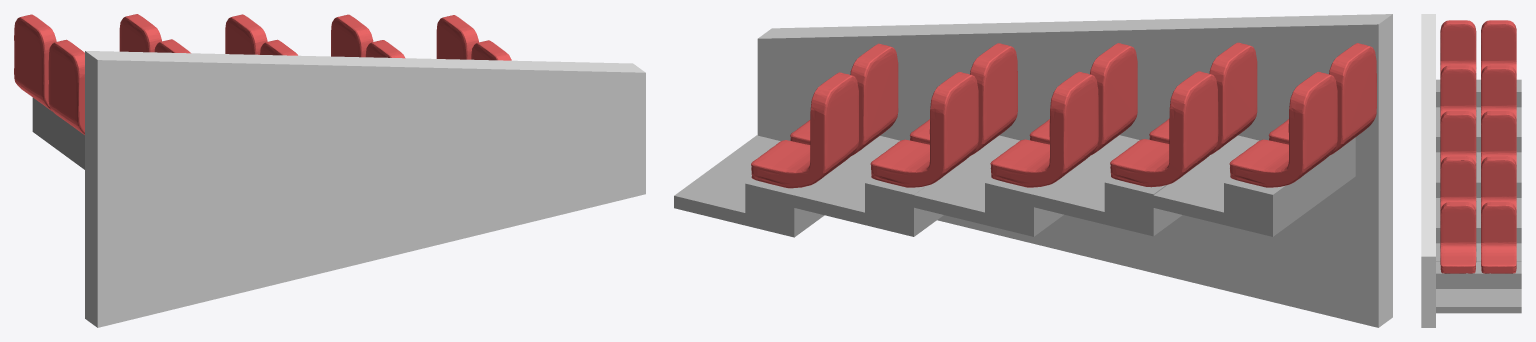
File: Bleacher Left End.fbx
3 views of the same model, side by side, from view 1: azimuth 30°, elevation 25°; view 2: azimuth 150°, elevation 25°; view 3: azimuth 270°, elevation 25° (orthographic). The views are drawn at different scales.
Visible parts, largest first — view 1: Left_End_Bleachers Low Poly; view 2: Left_End_Bleachers Low Poly; view 3: Left_End_Bleachers Low Poly.
Part boxes in pixels (bbox=[...]): Left_End_Bleachers Low Poly: bbox=[14, 14, 645, 327]; Left_End_Bleachers Low Poly: bbox=[674, 14, 1392, 327]; Left_End_Bleachers Low Poly: bbox=[1421, 14, 1521, 327].
Bounding box in the file's own units: 12.77 × 5.92 × 3.43.
